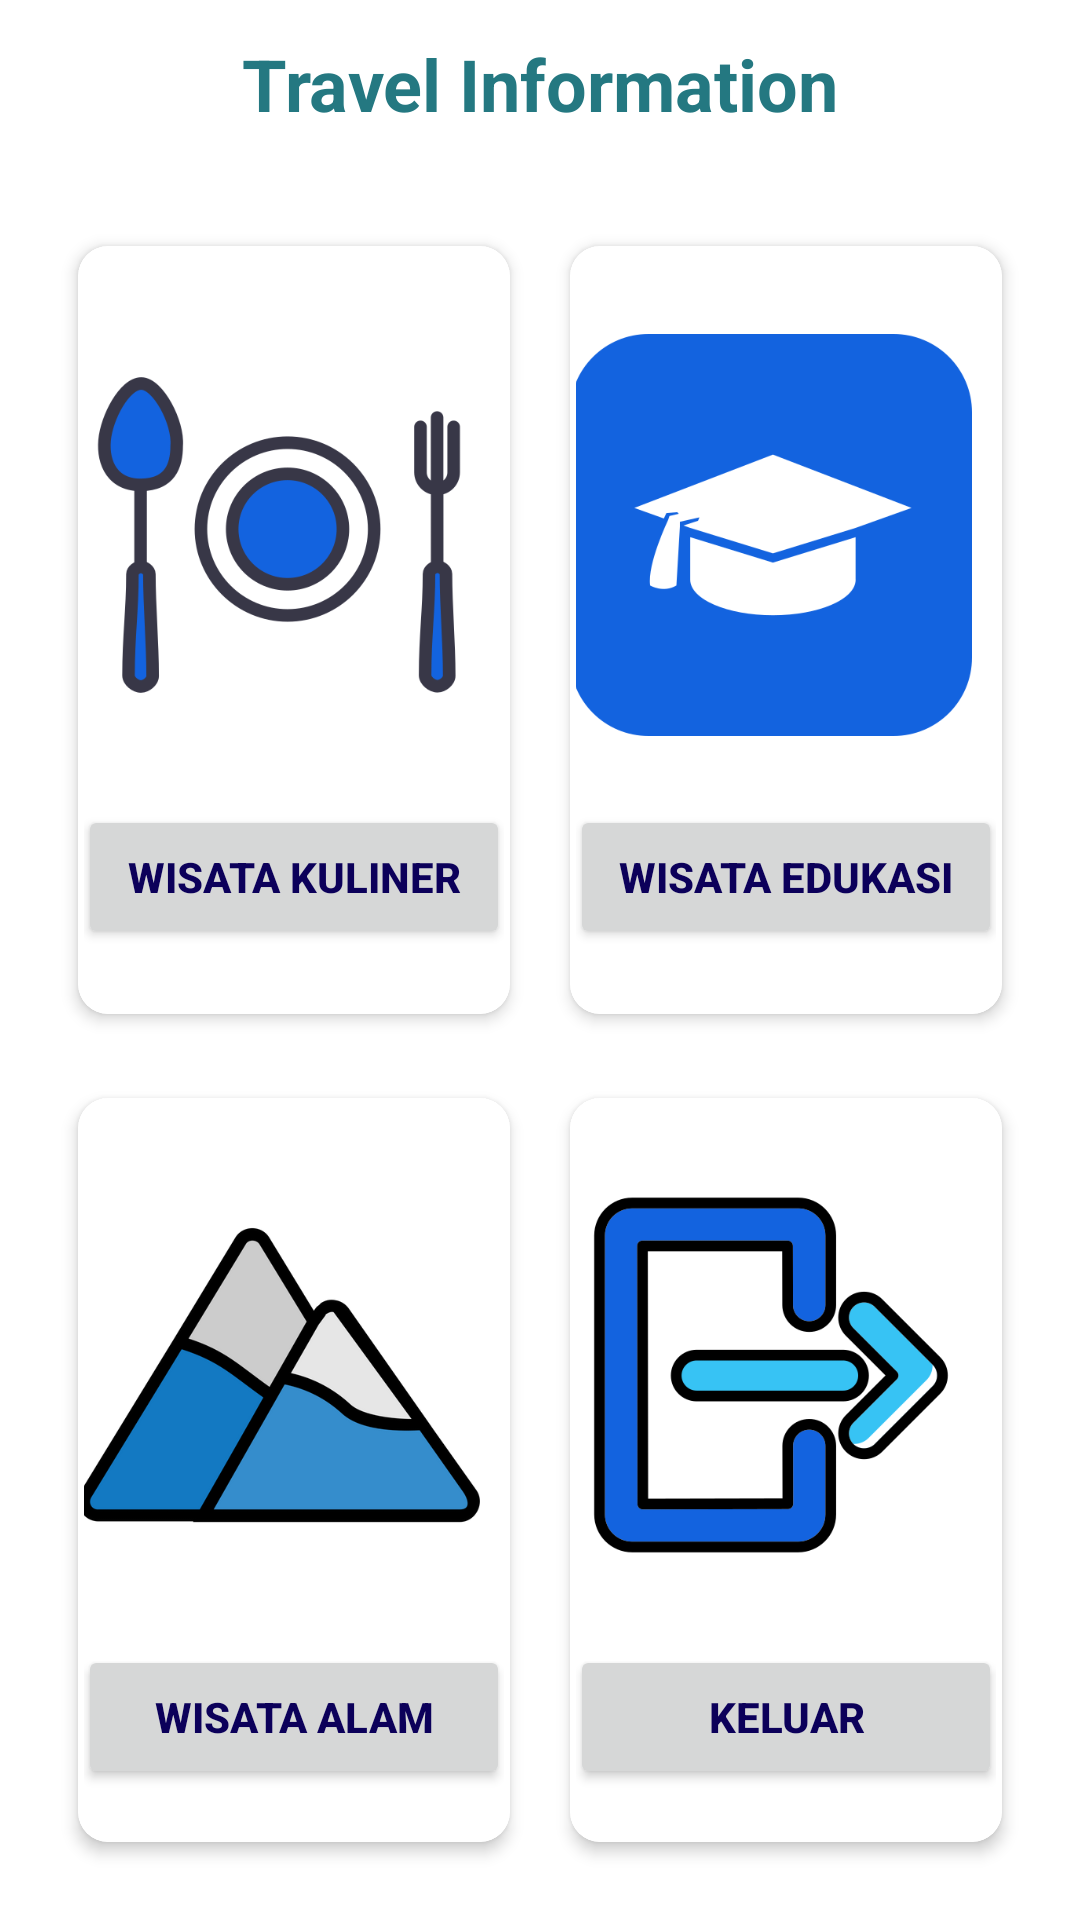

Icons on this 1080x1920 Android screen, each with the point to tap as (x=x, y=y):
exit: (x=771, y=1375)
